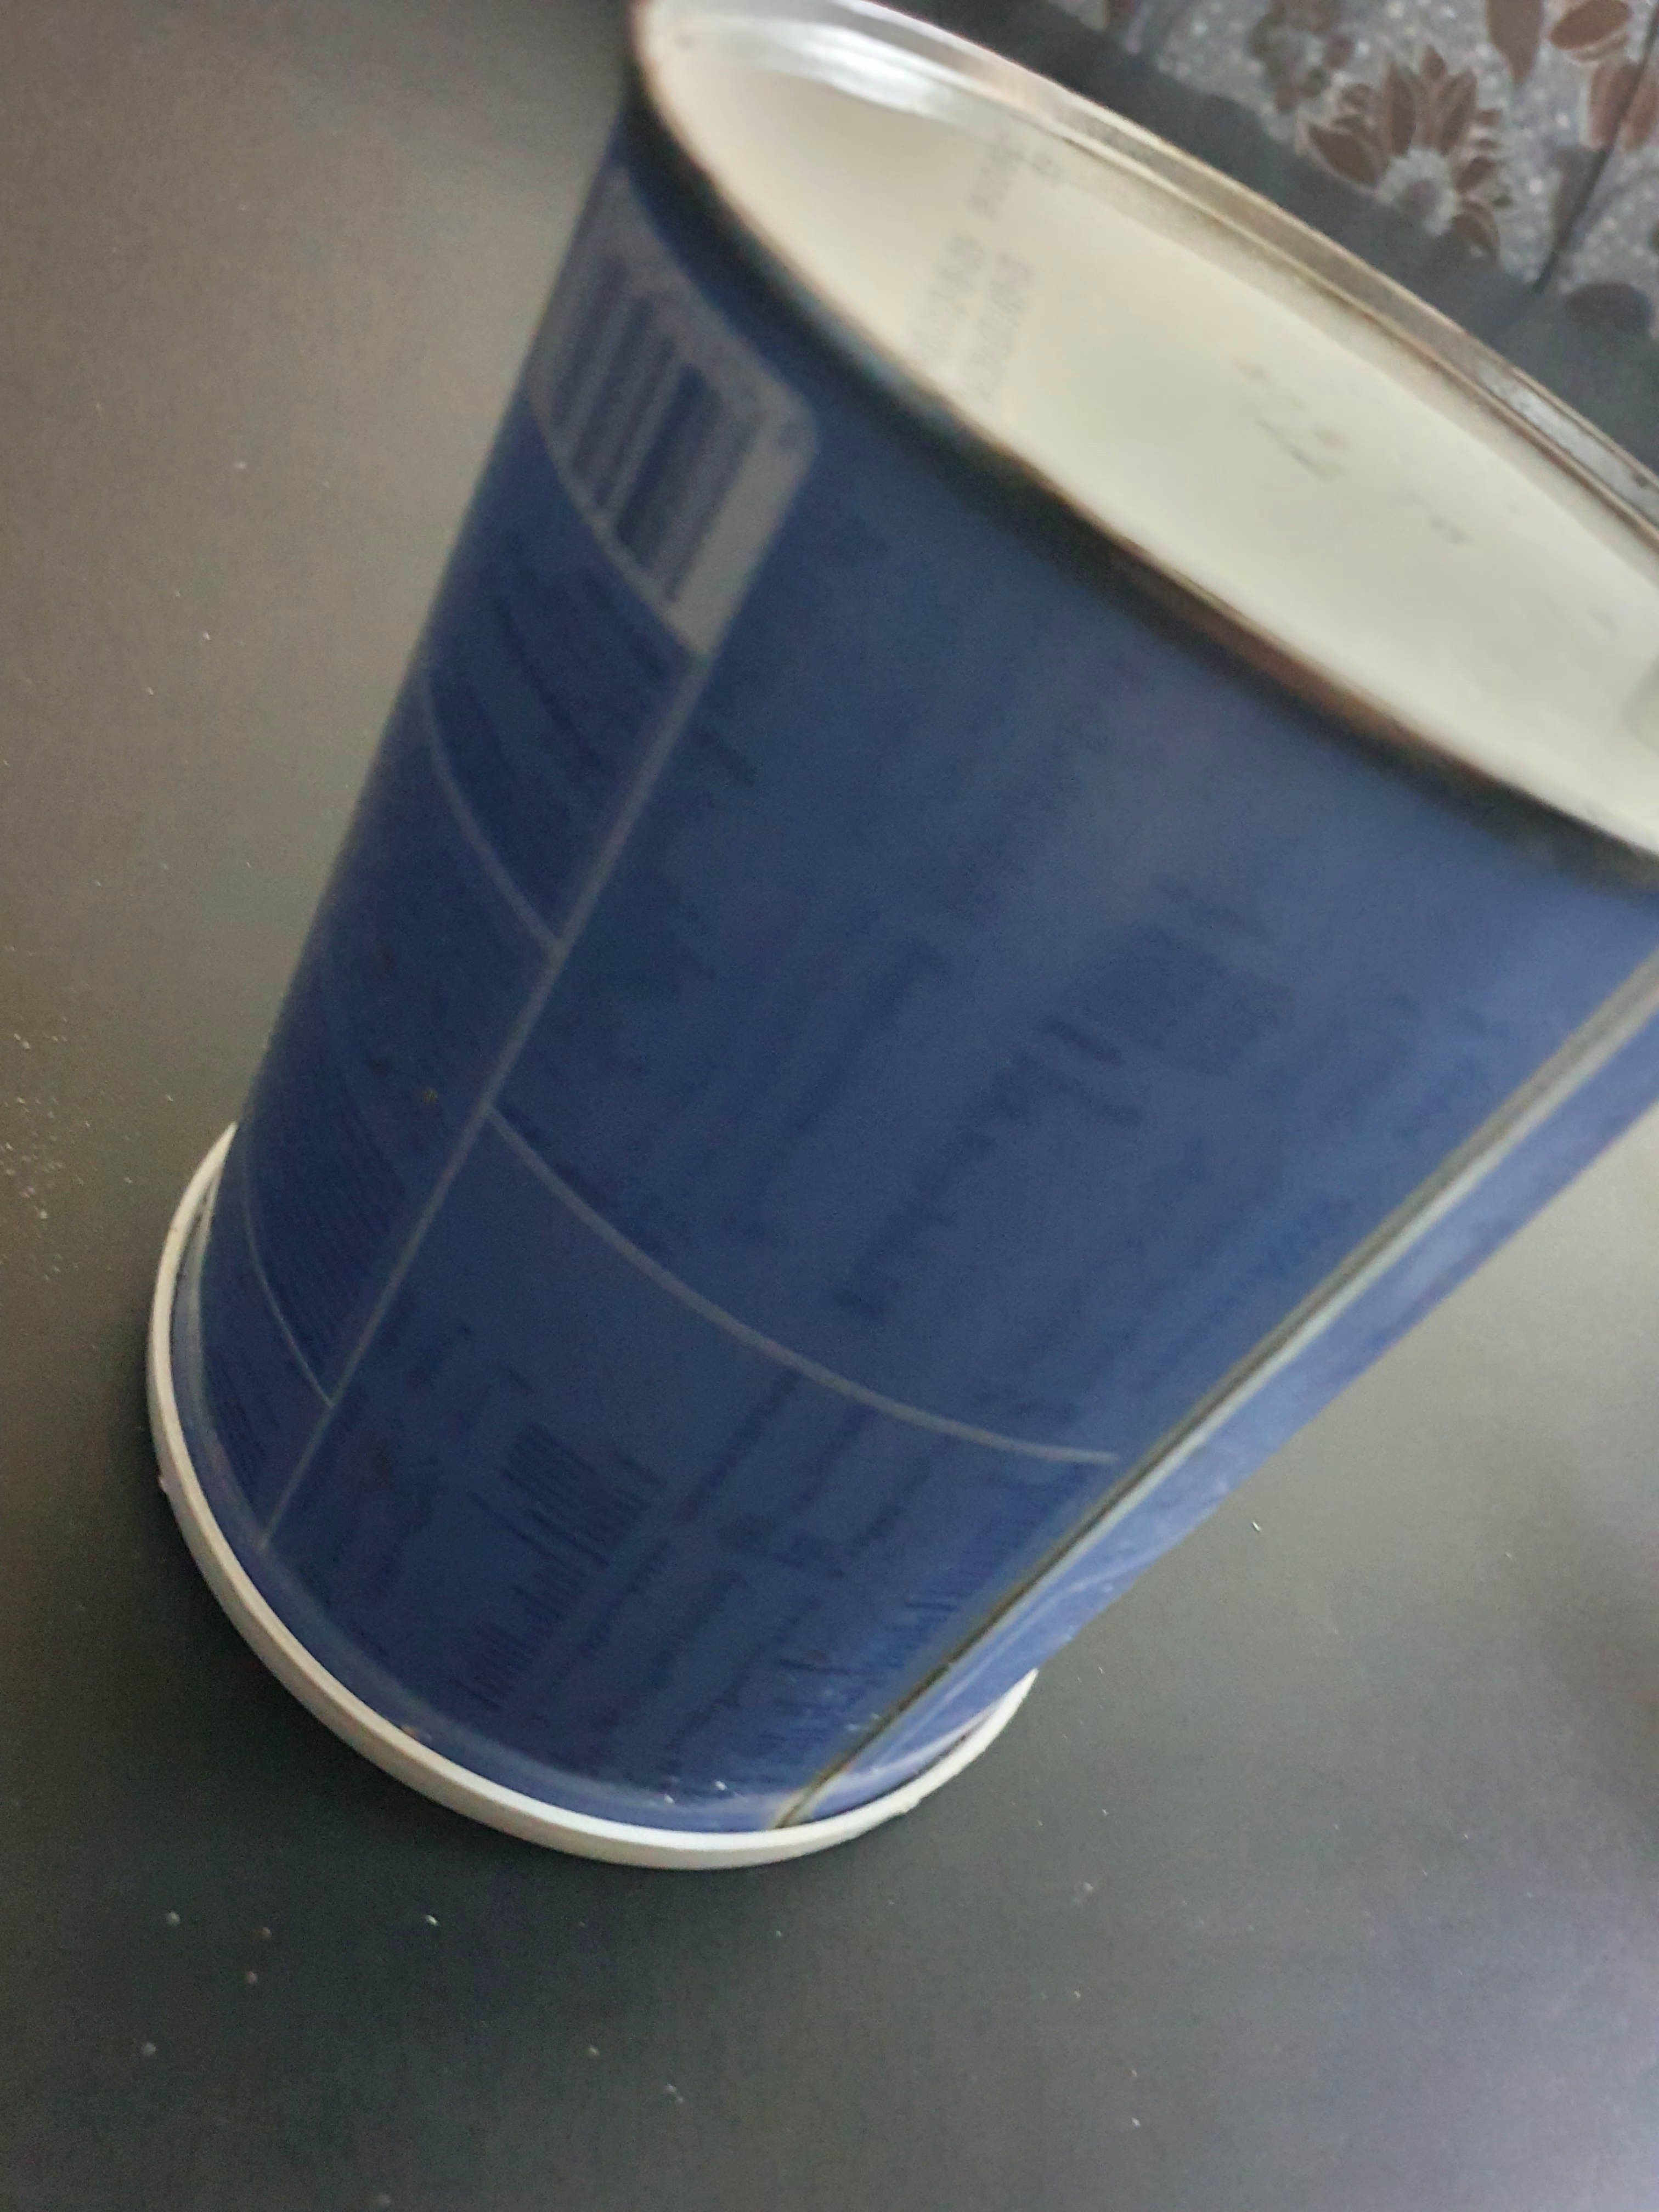metal: (108, 0, 1654, 1991)
